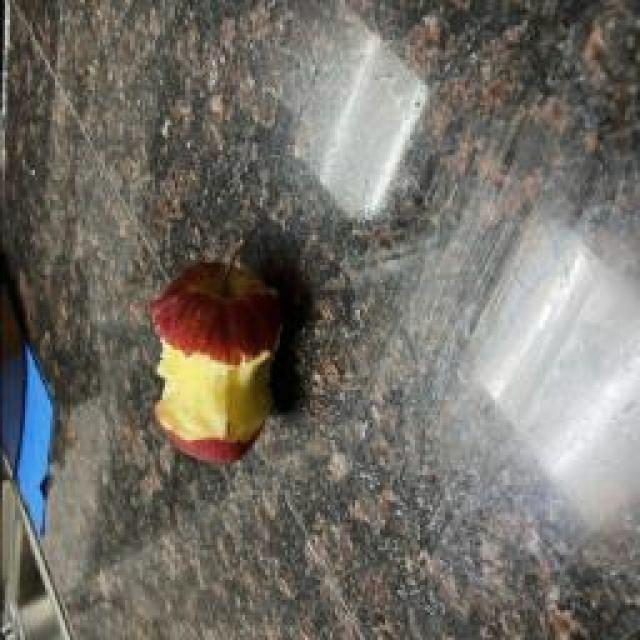Apple: (151, 262, 281, 462)
